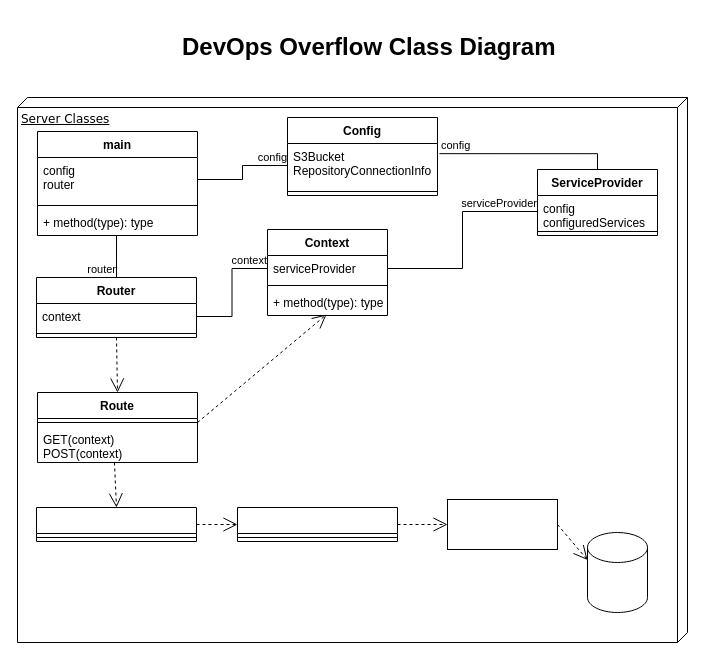
Some shapes in this 705 by 660 pixel diagram are drawn without their labels. The centre of each missing label's shape, as x and y in pixels:
BuisnessObjectService: the point at 116,524
DAOService: the point at 317,524
Repository Server Interface: the point at 502,524
Repository Store: the point at 617,572
